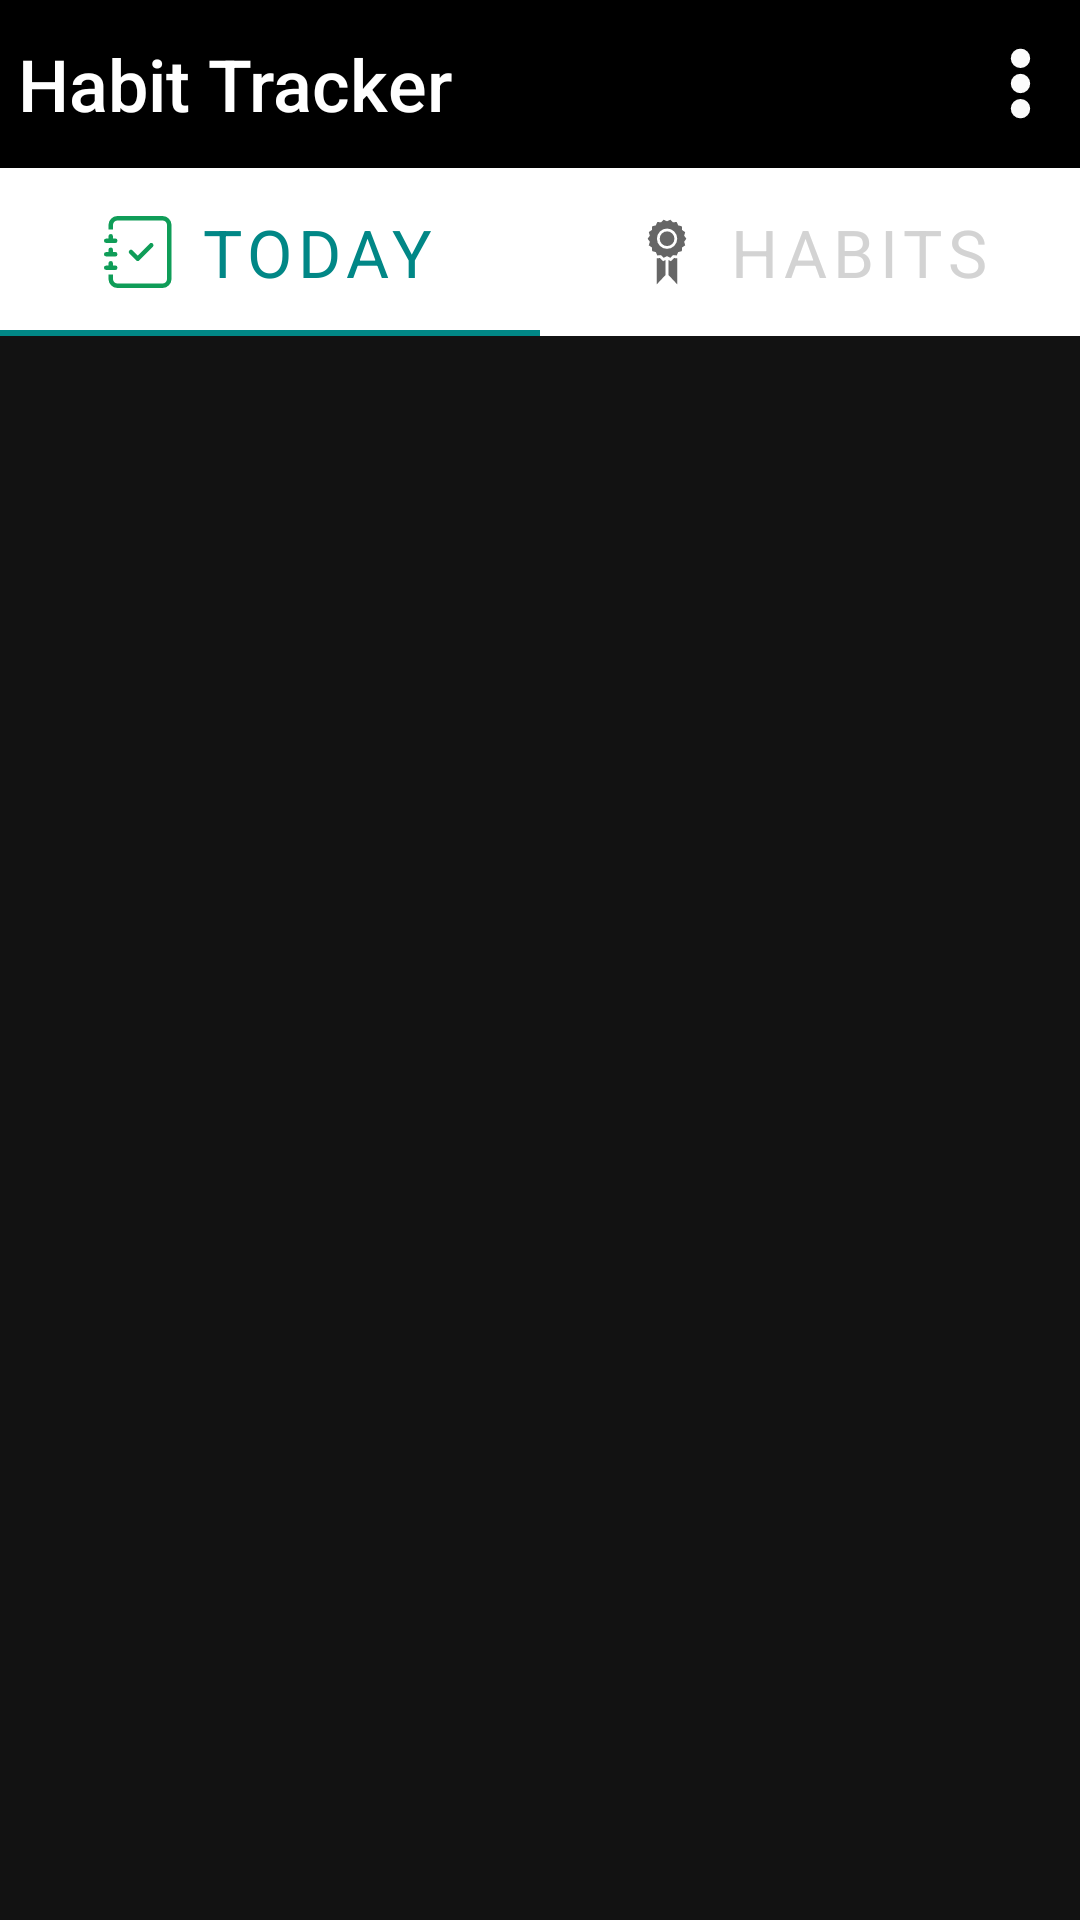

Named icons in this screenshot (1080px×1920px) and their bounding boxes, bbox=(x1, y1, x2, y2):
ptions 3dots: bbox=(1010, 48, 1031, 119)
